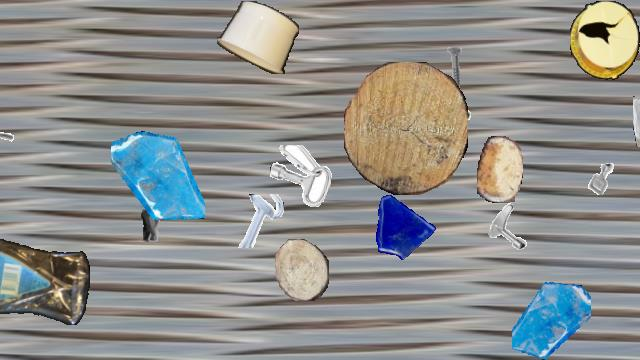glass: (111, 130, 205, 224), (512, 281, 590, 359), (366, 189, 436, 259), (633, 92, 640, 150)
metal: (419, 99, 481, 161), (270, 145, 332, 207), (232, 194, 286, 248), (482, 200, 536, 254), (126, 202, 176, 252), (431, 45, 479, 93), (580, 157, 624, 201), (0, 108, 24, 148)
plastic: (0, 233, 89, 329), (217, 1, 299, 73), (570, 1, 640, 79)
wood: (344, 62, 468, 194), (275, 239, 329, 301), (477, 136, 523, 202)
